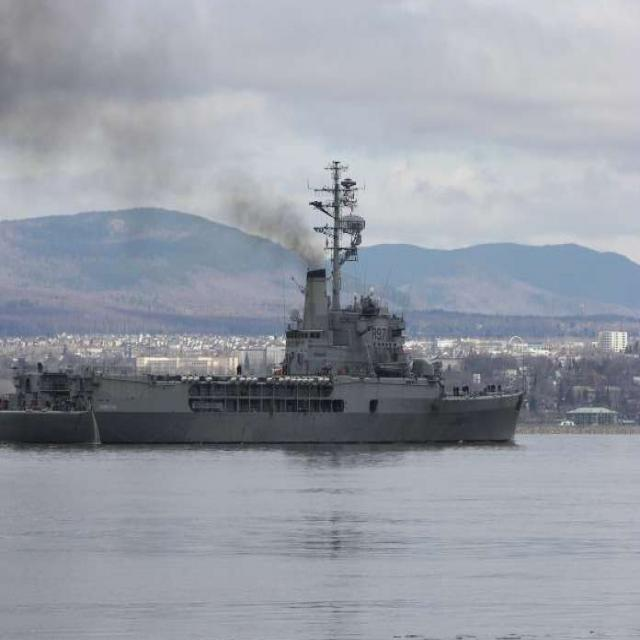Portanaves: (1, 153, 533, 452)
